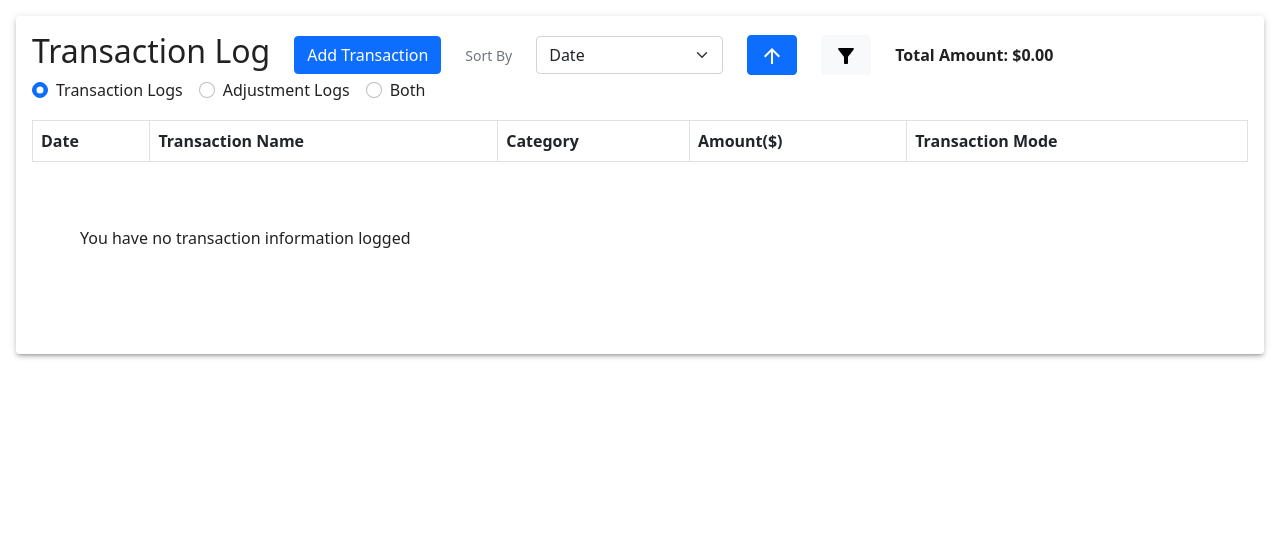
Test: filter popover appears/disappears on click
The image size is (1280, 558).
expect the text "Filter By" is not shown: met
Click the button named "filter": coordinates (846, 55) [821, 35, 871, 75]
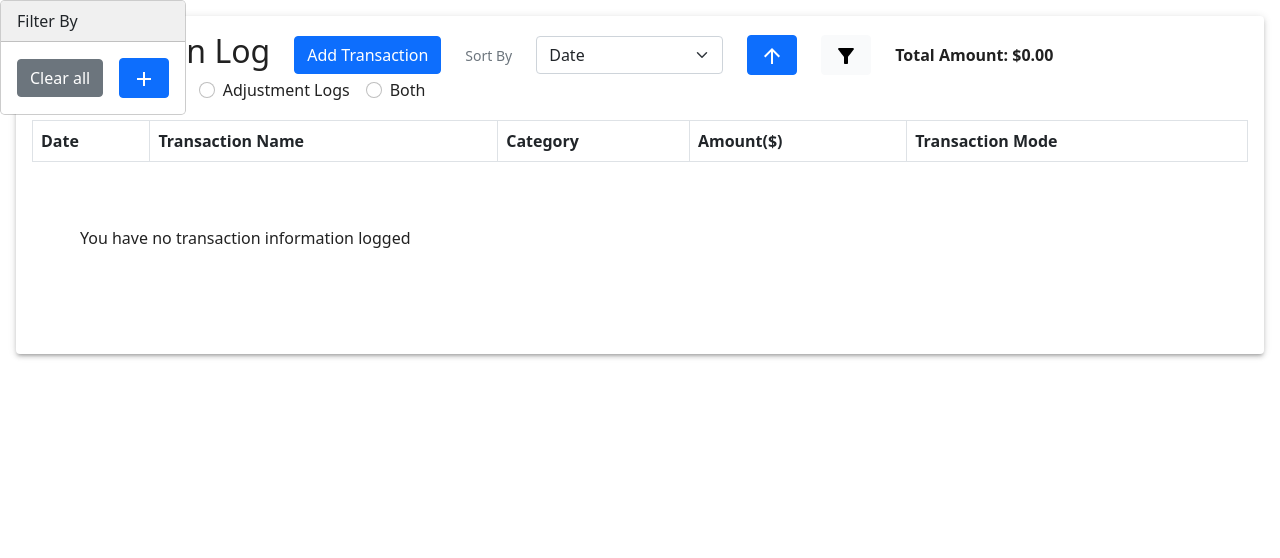
expect the text "Filter By" is shown: met, box [1, 1, 185, 42]
// popover disappears on click
Click the button named "filter": coordinates (846, 55) [821, 35, 871, 75]
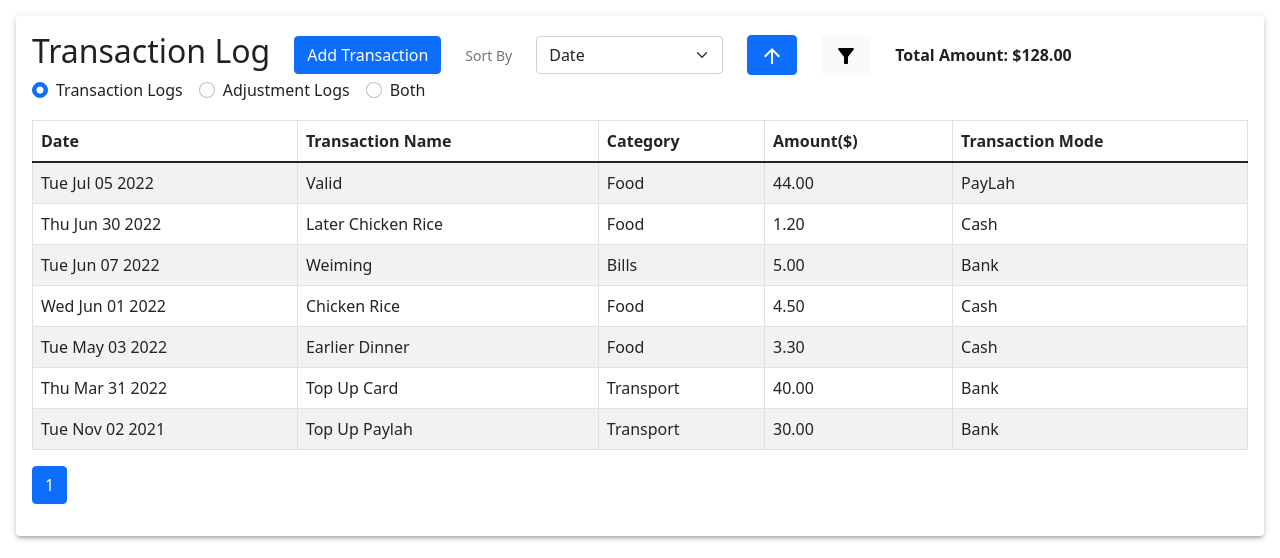
expect the text "Filter By" is gone: met
